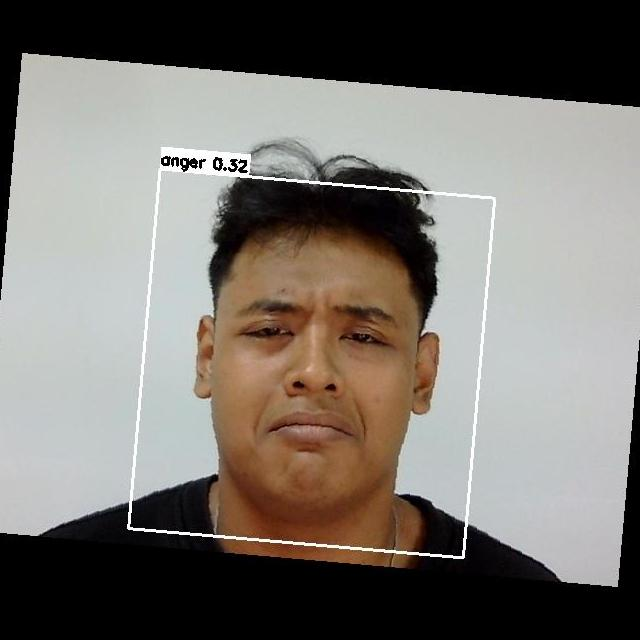Sad: (210, 280, 423, 497)
